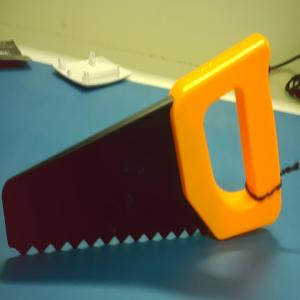serrote: (1, 31, 283, 258)
